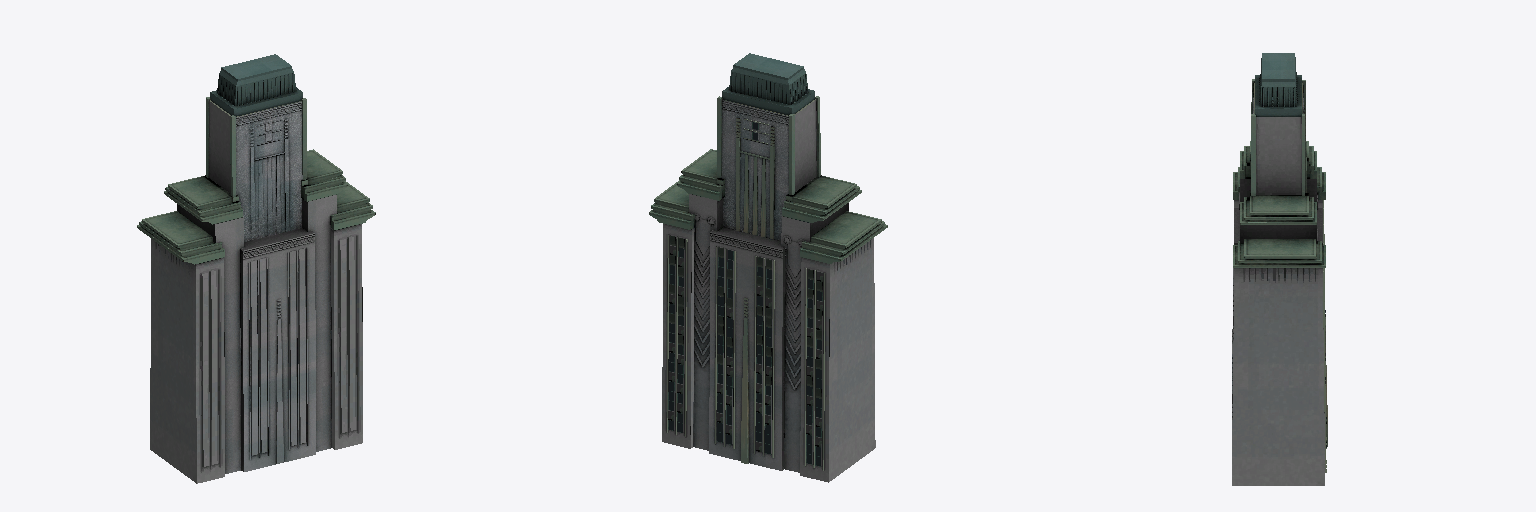
The picture shows the model from 3 angles: view 1: azimuth 30°, elevation 25°; view 2: azimuth 150°, elevation 25°; view 3: azimuth 270°, elevation 25°; orthographic projection.
Visible parts, largest first — view 1: Building_B; view 2: Building_B; view 3: Building_B.
Boxes of the visible parts, x1=… form: Building_B: x1=137, y1=54, x2=375, y2=483; Building_B: x1=649, y1=53, x2=887, y2=482; Building_B: x1=1232, y1=53, x2=1327, y2=485.
Size of the model in its own units: 2264 by 4273 by 989.
Materials: 1 (1 with a texture image).